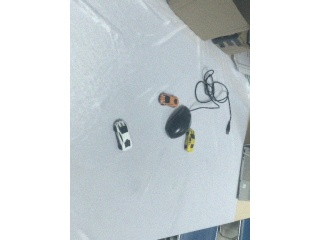mouse: (165, 105, 191, 139)
toy_car: (114, 119, 132, 151), (159, 93, 179, 107), (184, 129, 195, 152)
